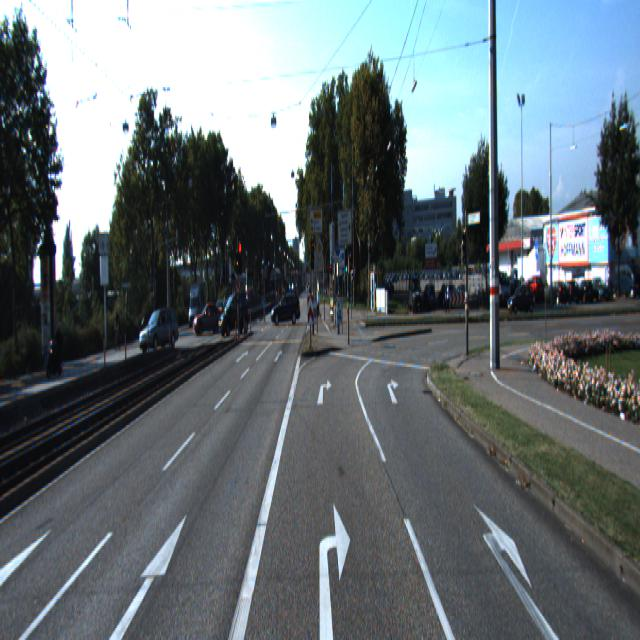Car: (139, 306, 180, 358), (218, 295, 250, 340), (192, 301, 224, 339), (46, 321, 66, 380), (270, 292, 302, 328)
